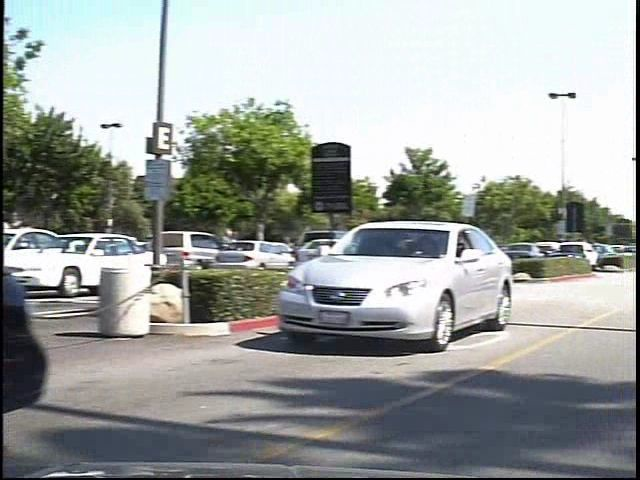person: (225, 221, 252, 271)
